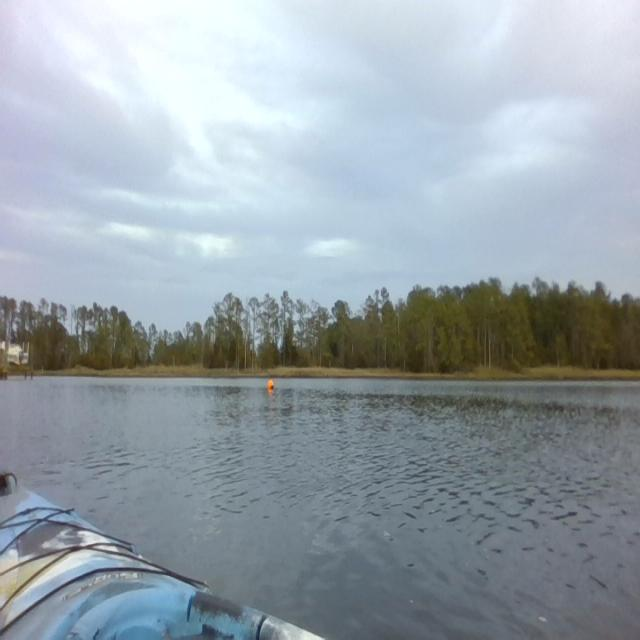Buoy: (266, 376, 276, 395)
